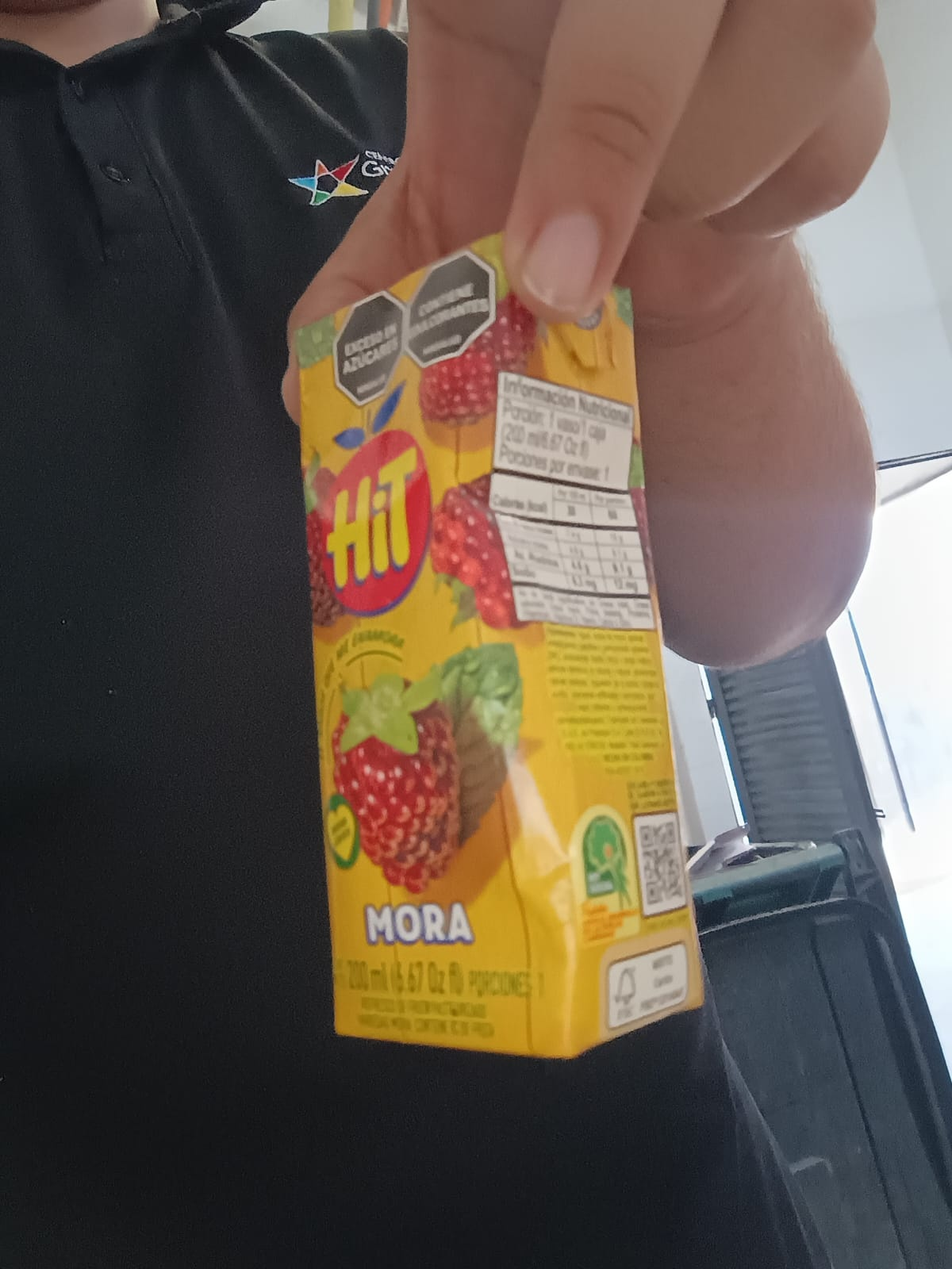Carton: (296, 225, 710, 1058)
